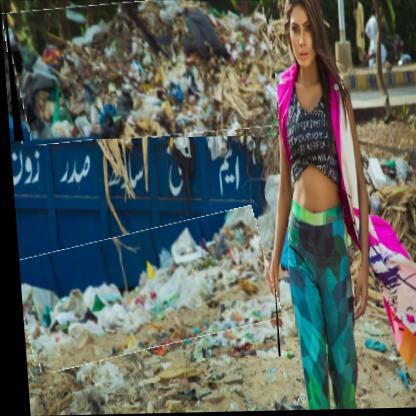Garbage: (5, 1, 279, 143), (14, 219, 277, 364)
